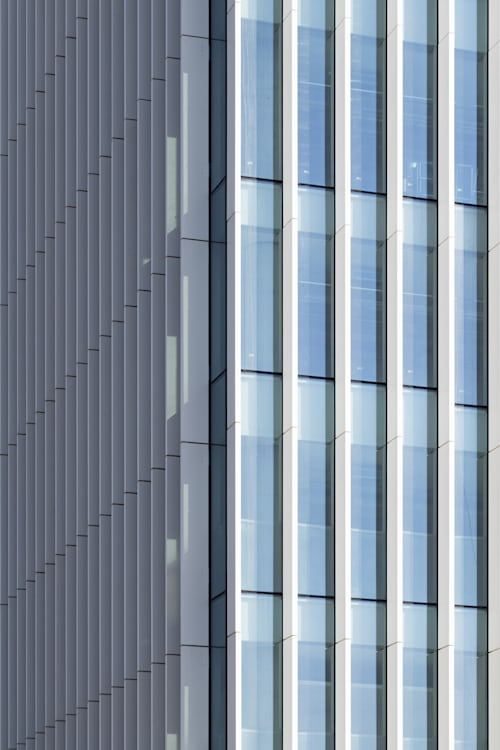glass_panel: (241, 373, 281, 591), (241, 180, 281, 371), (298, 379, 333, 595), (351, 384, 385, 598), (241, 0, 281, 179), (403, 389, 436, 602), (298, 188, 333, 376), (351, 0, 385, 192), (298, 0, 333, 186), (403, 0, 436, 197), (351, 194, 385, 381), (455, 206, 487, 404), (455, 0, 486, 204), (241, 594, 281, 749), (403, 200, 436, 386), (455, 407, 486, 605), (298, 598, 333, 749), (351, 601, 385, 749), (403, 605, 436, 749), (455, 607, 487, 749)
